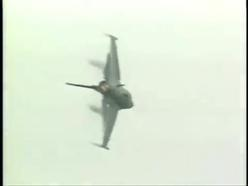aircraft: (66, 32, 135, 151)
